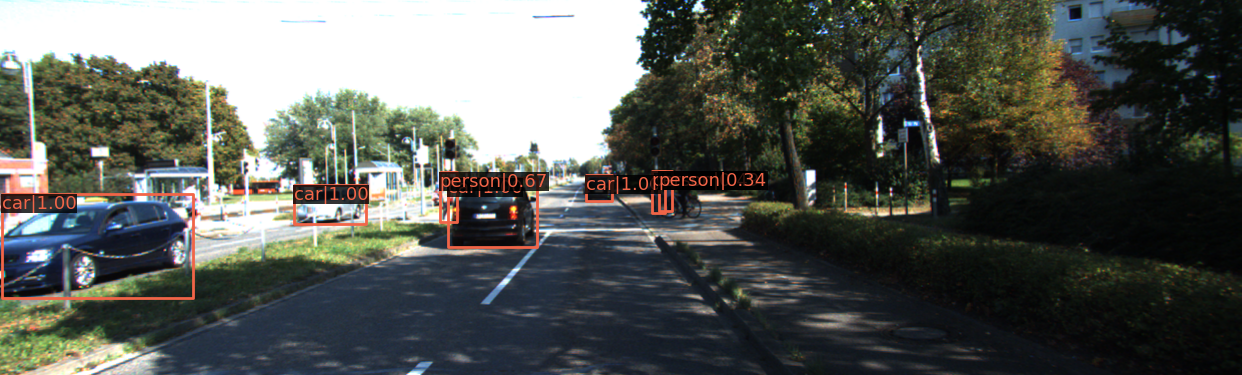car: (1, 199, 198, 300), (453, 177, 537, 247), (297, 188, 364, 226), (586, 177, 613, 204)
person: (442, 177, 451, 222)
